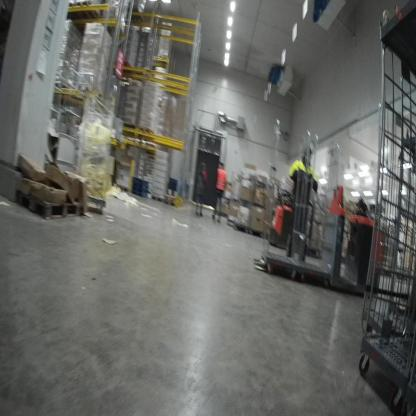pallet: (14, 184, 87, 222), (75, 1, 106, 32), (66, 2, 87, 29), (136, 125, 158, 142), (150, 194, 165, 203), (164, 199, 179, 208)
pallet_truck: (243, 183, 393, 296), (269, 176, 325, 255)
